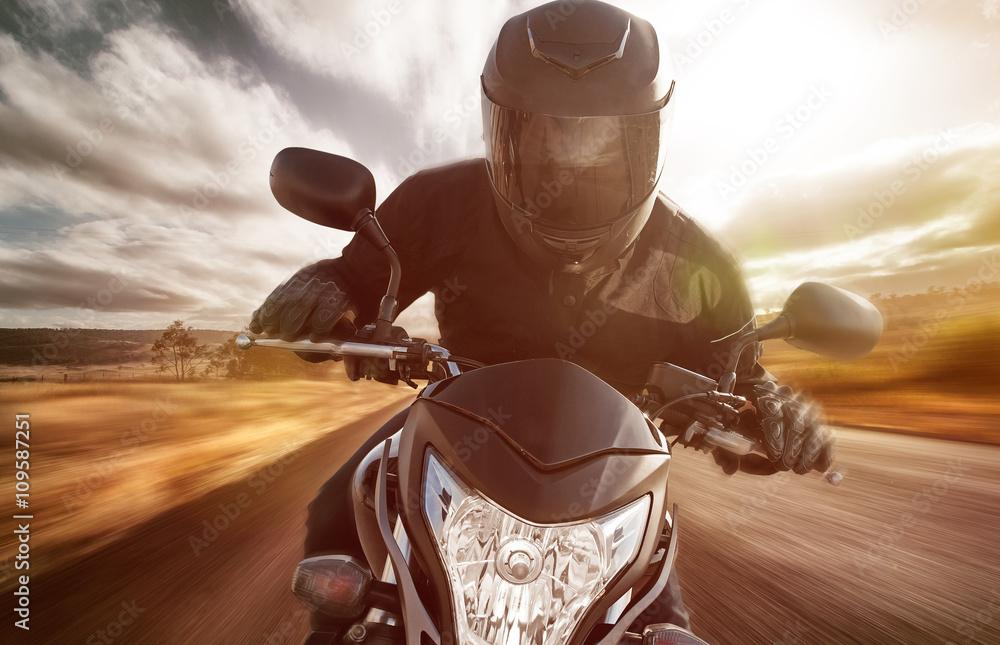helmet: (479, 0, 677, 275)
